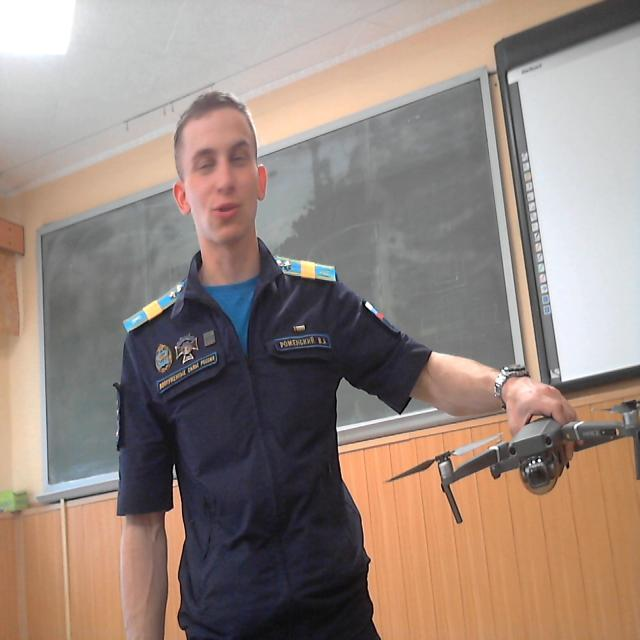drone: (376, 393, 640, 530)
